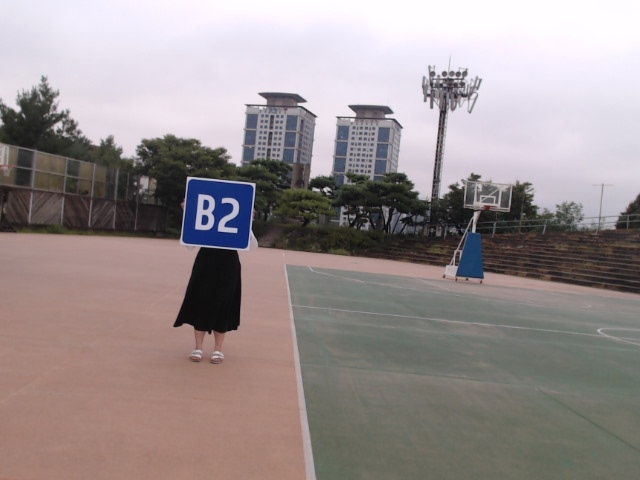delivery_b2: (181, 179, 255, 249)
